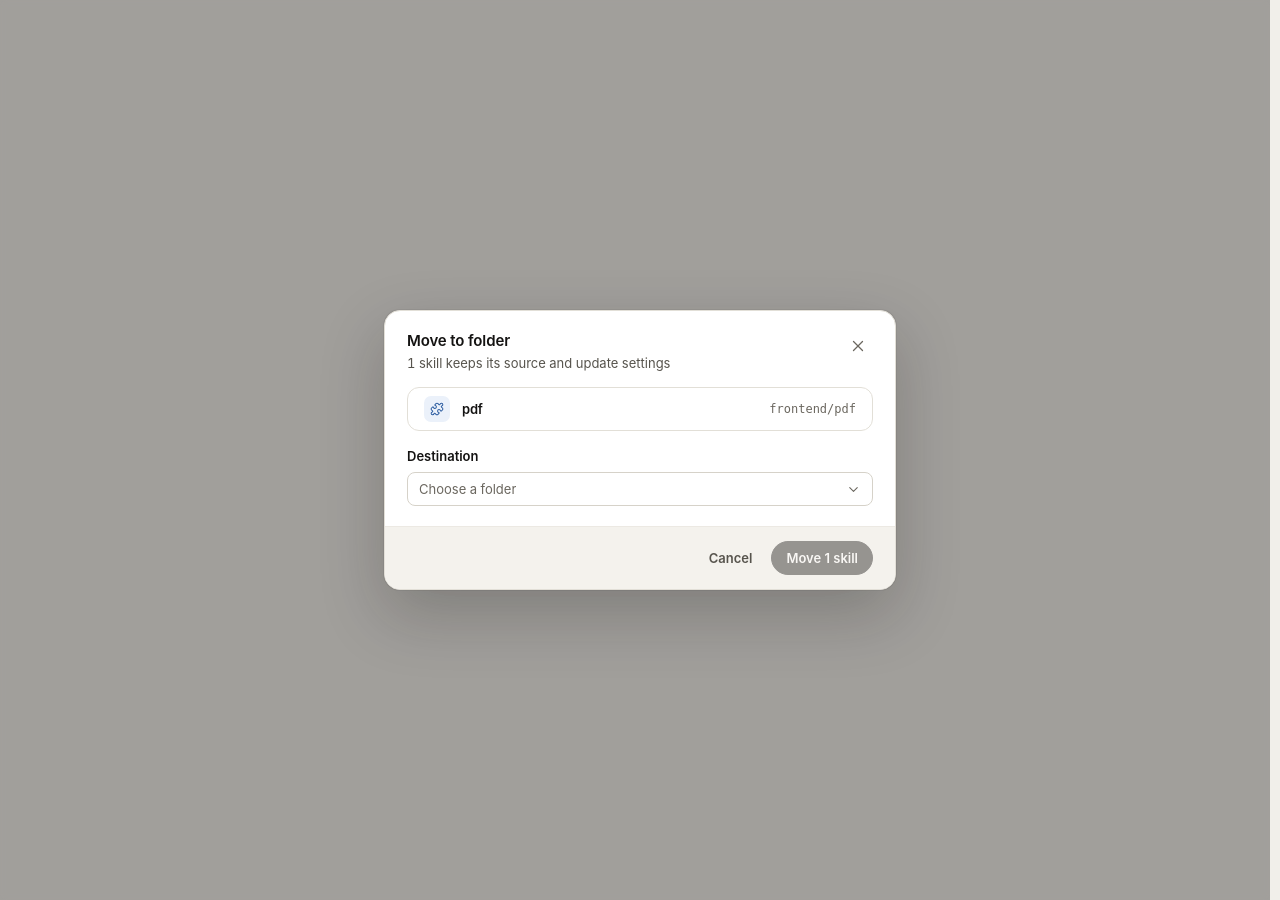
Test: MoveDialog › warns about target filters from the preview without showing backend text
Click the dropdown named "Destination": x=468, y=489 407,472 -> 873,506
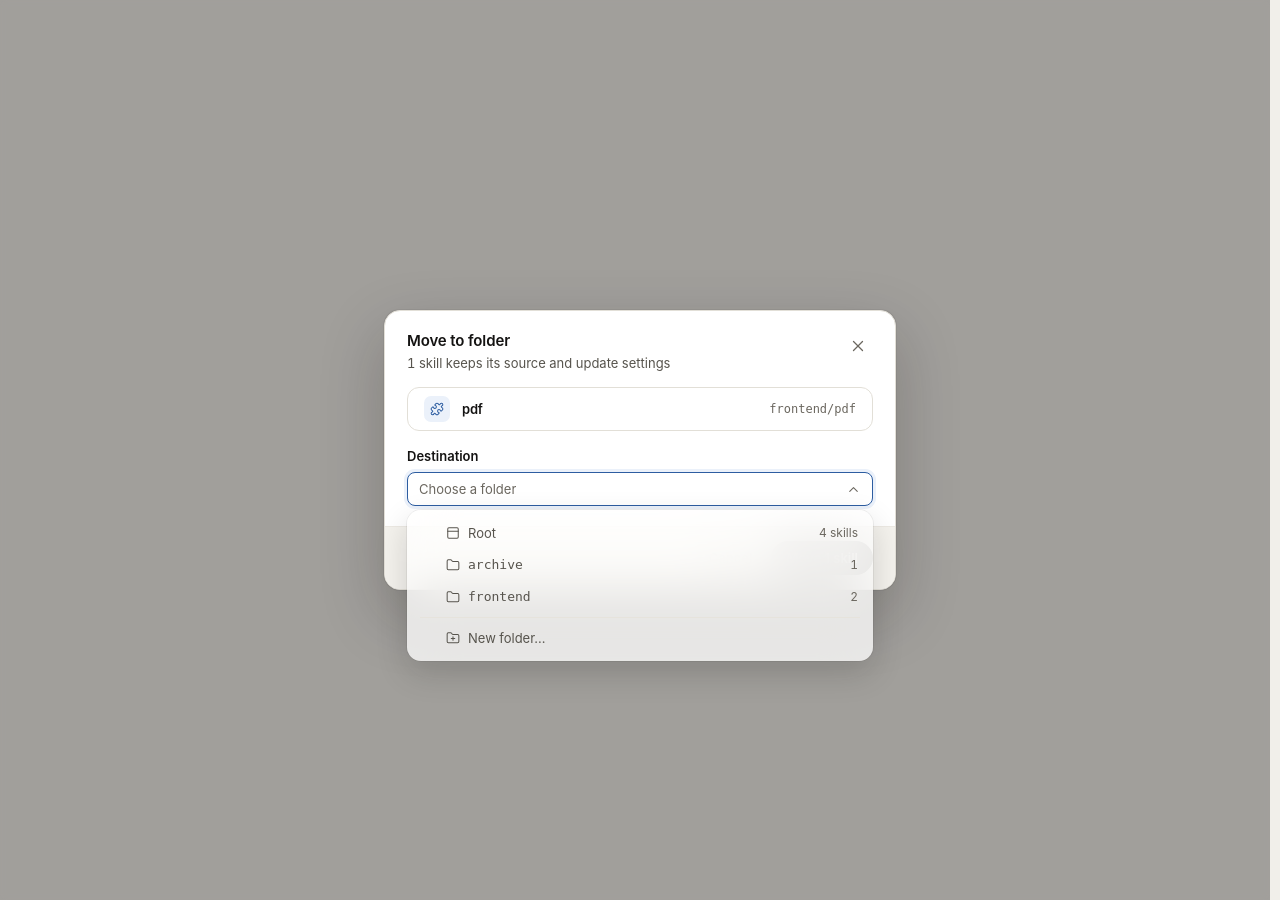
Click the option "archive 1": x=495, y=564 446,557 -> 858,572
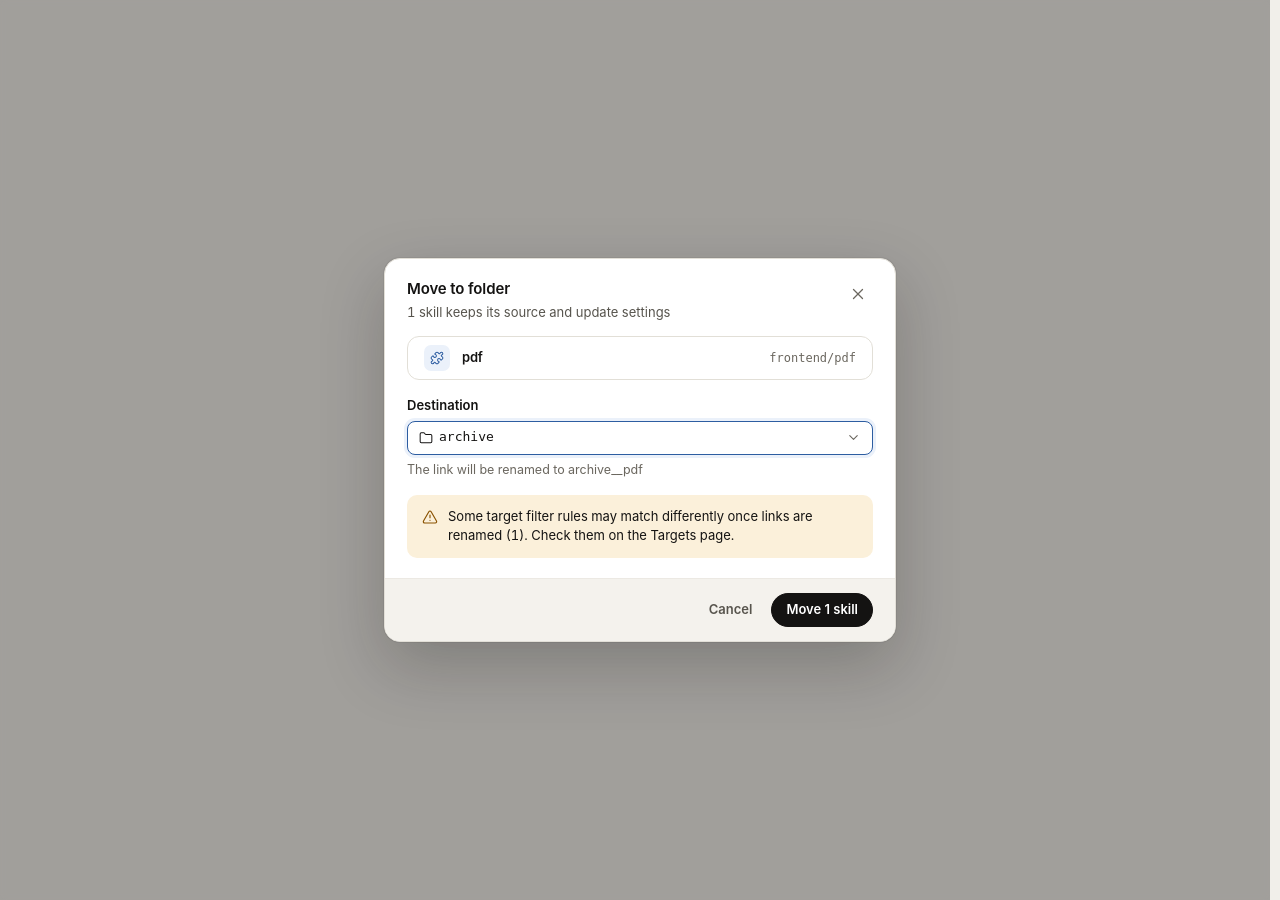
Now the text "may match differently once links are renamed (1)" is shown, box 448,508 -> 813,543
